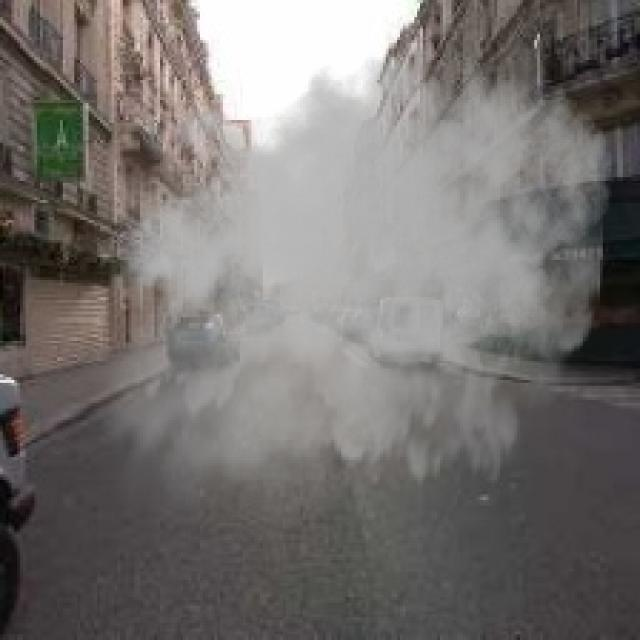smoke: (77, 20, 614, 546)
